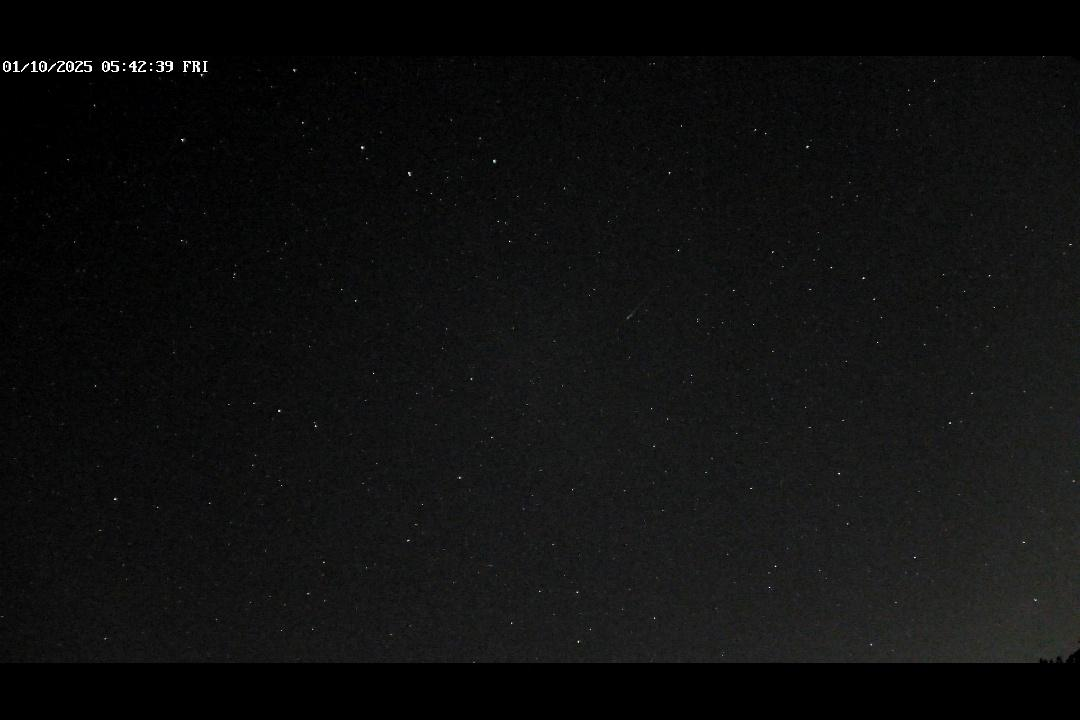Plane: (625, 298, 647, 322)
